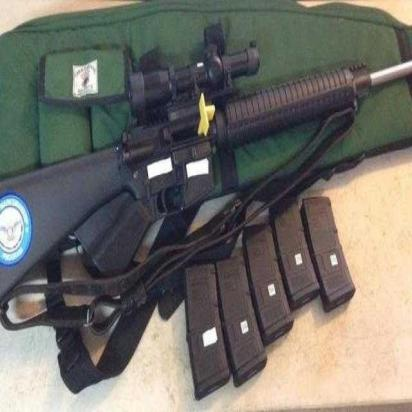Gun: (0, 23, 412, 312)
